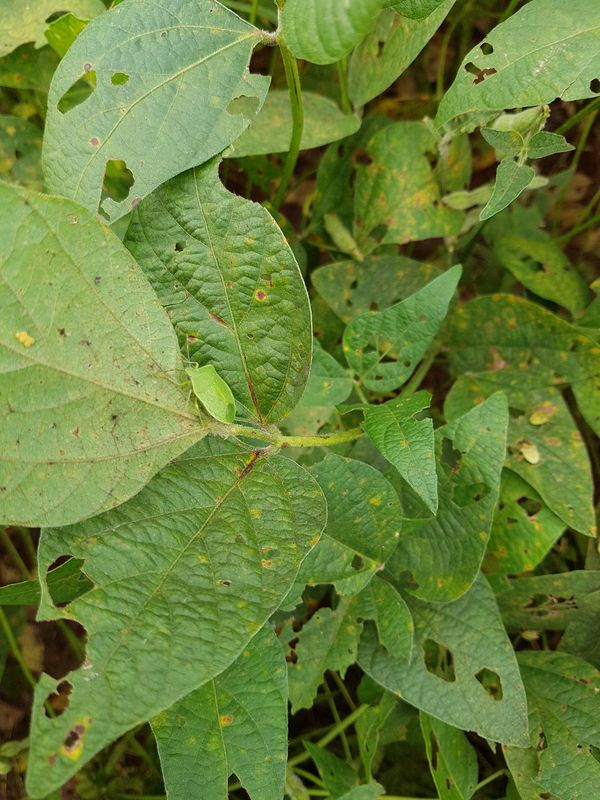Euschistus_heros_ninfa: (515, 435, 548, 468)
Nezara_viridula_adulto: (157, 331, 249, 440)
